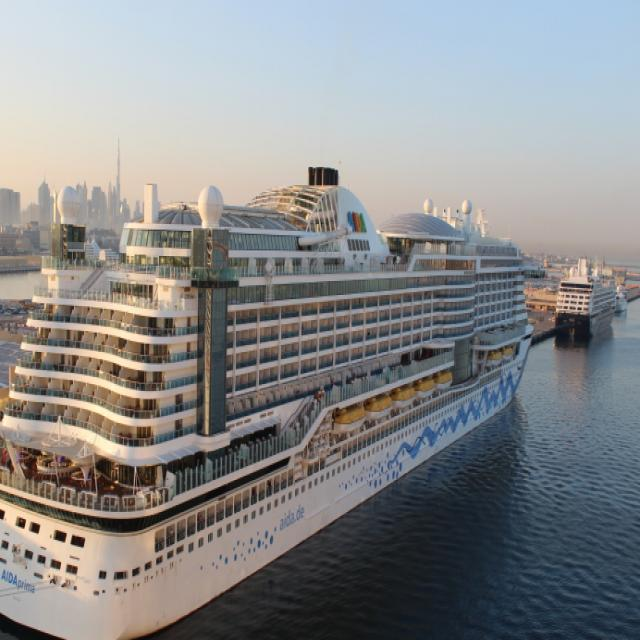cruises: (1, 150, 540, 640), (552, 243, 623, 349)
